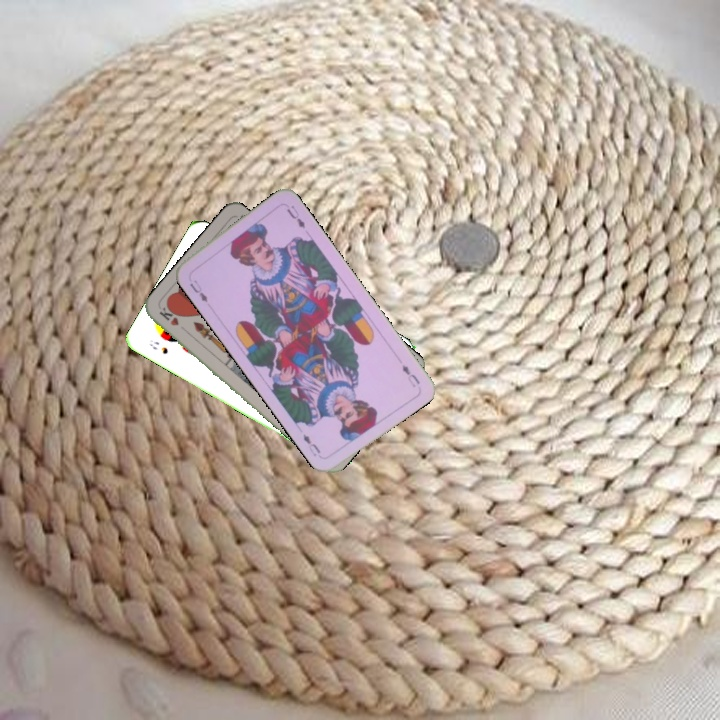EU: (185, 276, 210, 305), (398, 361, 423, 390)
HK: (155, 303, 181, 328)
S8: (146, 336, 171, 357)
